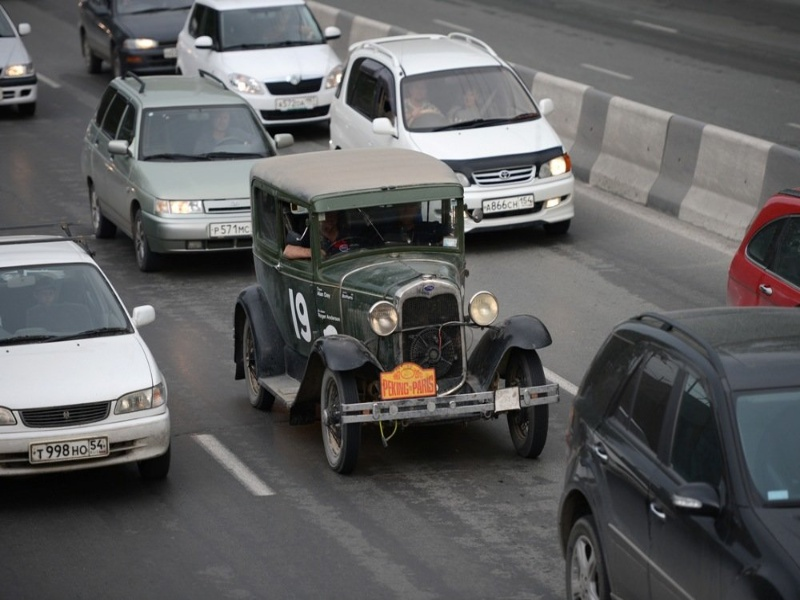car: (233, 148, 560, 473), (558, 306, 800, 600), (329, 32, 574, 239), (1, 223, 172, 496), (82, 73, 294, 271), (174, 1, 344, 125), (77, 1, 194, 78), (727, 187, 800, 304), (1, 1, 39, 118)
person: (195, 110, 247, 153), (403, 80, 441, 122), (454, 87, 496, 122), (32, 281, 56, 306)
plate: (29, 437, 109, 463), (483, 193, 534, 214), (276, 95, 318, 110), (210, 222, 252, 235)
